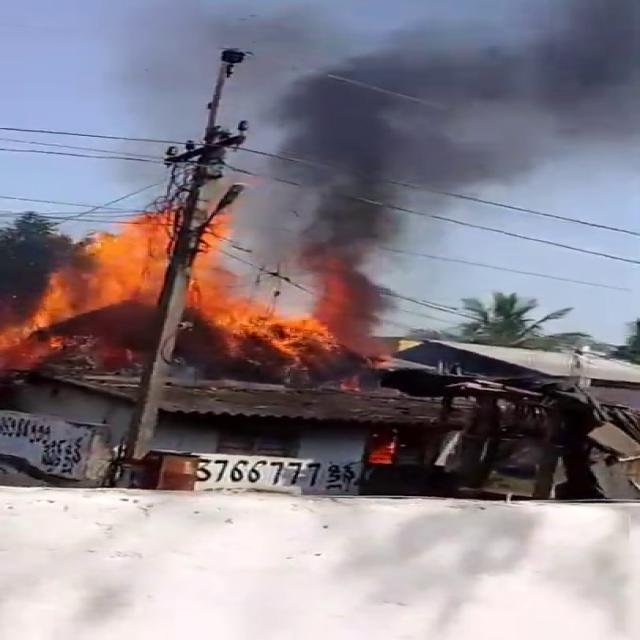Fire: (7, 208, 330, 360)
Smoke: (239, 0, 640, 287)
